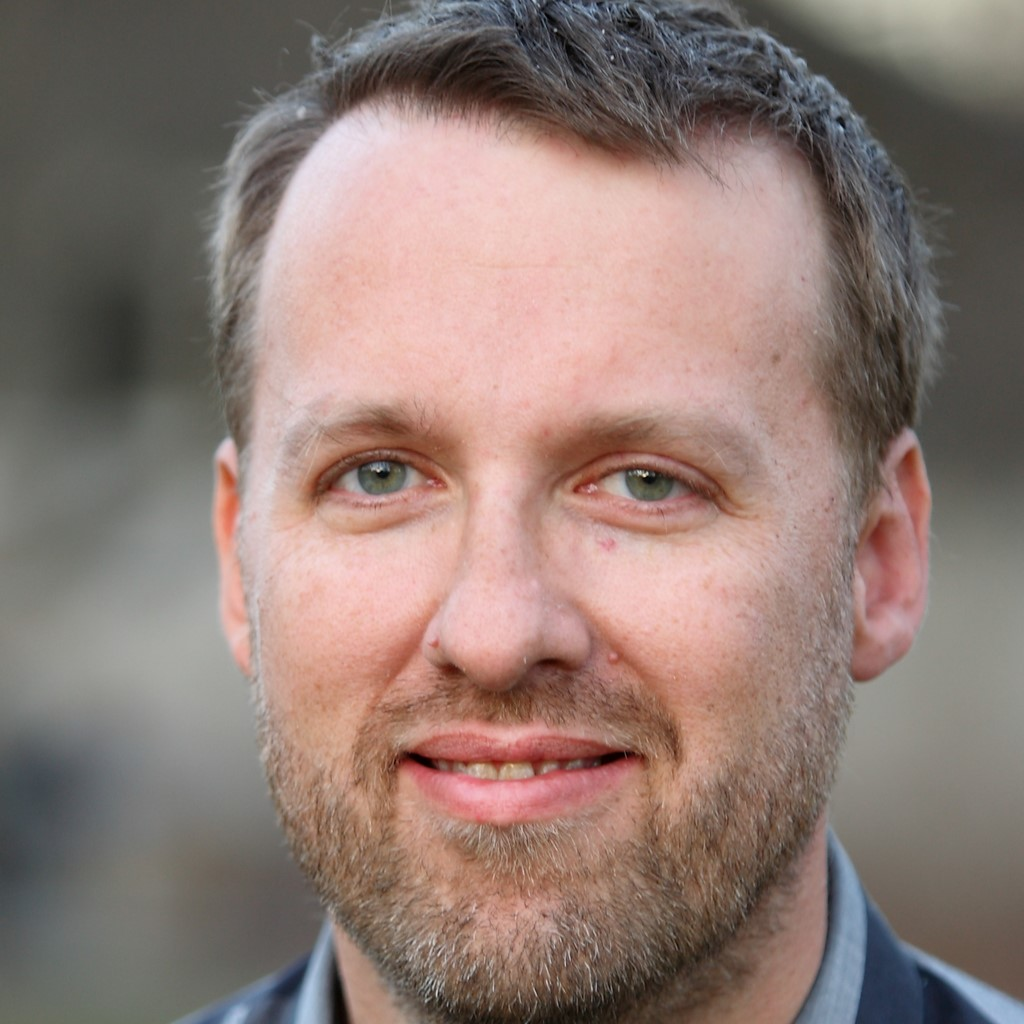sin_mascara: (223, 92, 866, 981)
